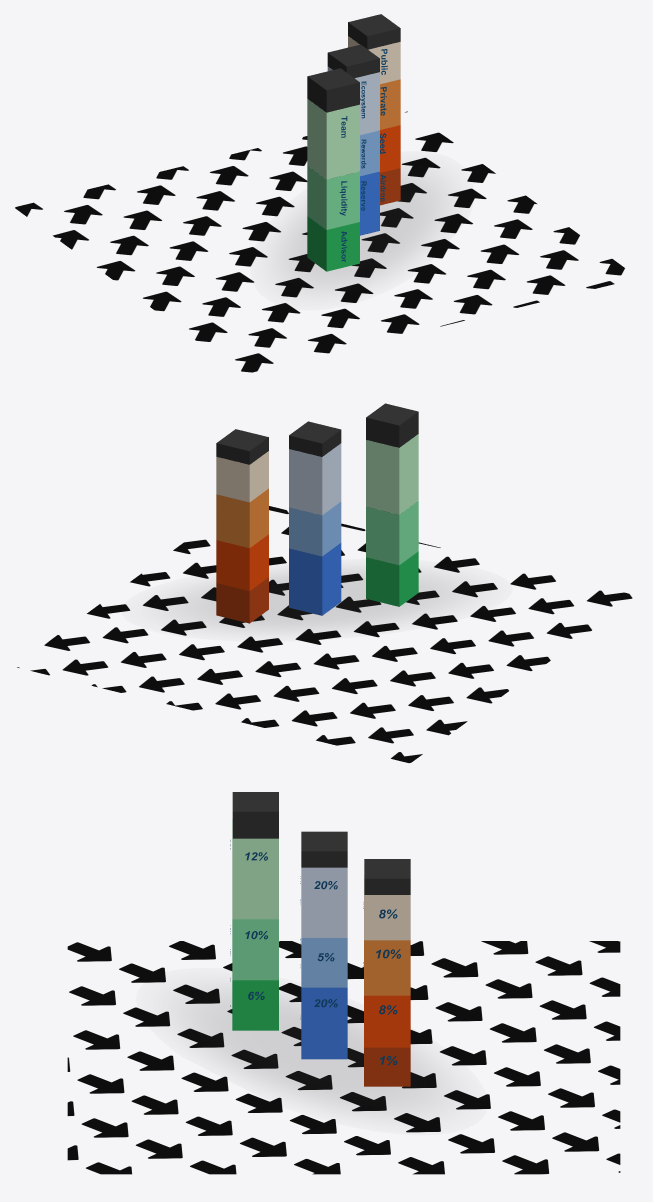
The picture shows the model from 3 angles, top to bottom: view 1: azimuth 30°, elevation 25°; view 2: azimuth 150°, elevation 25°; view 3: azimuth 270°, elevation 25°; orthographic projection. The views are drawn at different scales.
Parts seen in each view (by area): view 1: Plane, Plane.001, Team, Liquidity, Advisor, pillar1, pillar3, pillar2, Ecosystem, Reserve, Private, Public (+3 smaller); view 2: Plane, Plane.001, Team, Reserve, Ecosystem, Liquidity, Private, Seed, Advisor, Rewards, Public, pillar1 (+3 smaller); view 3: Plane, Plane.001, Team, Reserve, Ecosystem, Liquidity, Private, Seed, Advisor, Rewards, pillar1, Public (+3 smaller).
Boxes of the visible parts, bbox=[...] form: Plane: bbox=[15, 111, 624, 372]; Plane.001: bbox=[294, 182, 430, 279]; Team: bbox=[307, 99, 359, 179]; Liquidity: bbox=[307, 166, 359, 229]; Advisor: bbox=[307, 216, 359, 271]; pillar1: bbox=[307, 68, 359, 112]; pillar3: bbox=[348, 14, 400, 49]; pillar2: bbox=[327, 44, 379, 233]; Ecosystem: bbox=[327, 66, 379, 134]; Reserve: bbox=[360, 171, 379, 235]; Private: bbox=[380, 79, 400, 129]; Public: bbox=[348, 36, 400, 84]; Plane: bbox=[17, 506, 632, 762]; Plane.001: bbox=[197, 575, 436, 625]; Team: bbox=[366, 434, 418, 514]; Reserve: bbox=[289, 543, 341, 615]; Ecosystem: bbox=[289, 443, 341, 515]; Liquidity: bbox=[366, 501, 418, 565]; Private: bbox=[216, 488, 268, 548]; Seed: bbox=[216, 534, 268, 590]; Advisor: bbox=[366, 551, 418, 606]; Rewards: bbox=[289, 501, 341, 556]; Public: bbox=[216, 451, 268, 502]; pillar1: bbox=[366, 403, 418, 447]; Plane: bbox=[67, 941, 620, 1174]; Plane.001: bbox=[204, 1001, 419, 1102]; Team: bbox=[232, 819, 278, 919]; Reserve: bbox=[301, 987, 347, 1059]; Ecosystem: bbox=[301, 867, 347, 937]; Liquidity: bbox=[232, 919, 278, 980]; Private: bbox=[364, 940, 410, 995]; Seed: bbox=[364, 995, 410, 1047]; Advisor: bbox=[232, 980, 278, 1030]; Rewards: bbox=[301, 938, 347, 987]; pillar1: bbox=[232, 792, 278, 838]; Public: bbox=[364, 875, 410, 940].
Size of the model in its own units: 14.27 by 5.61 by 13.34.
14 materials, 2 textured.
